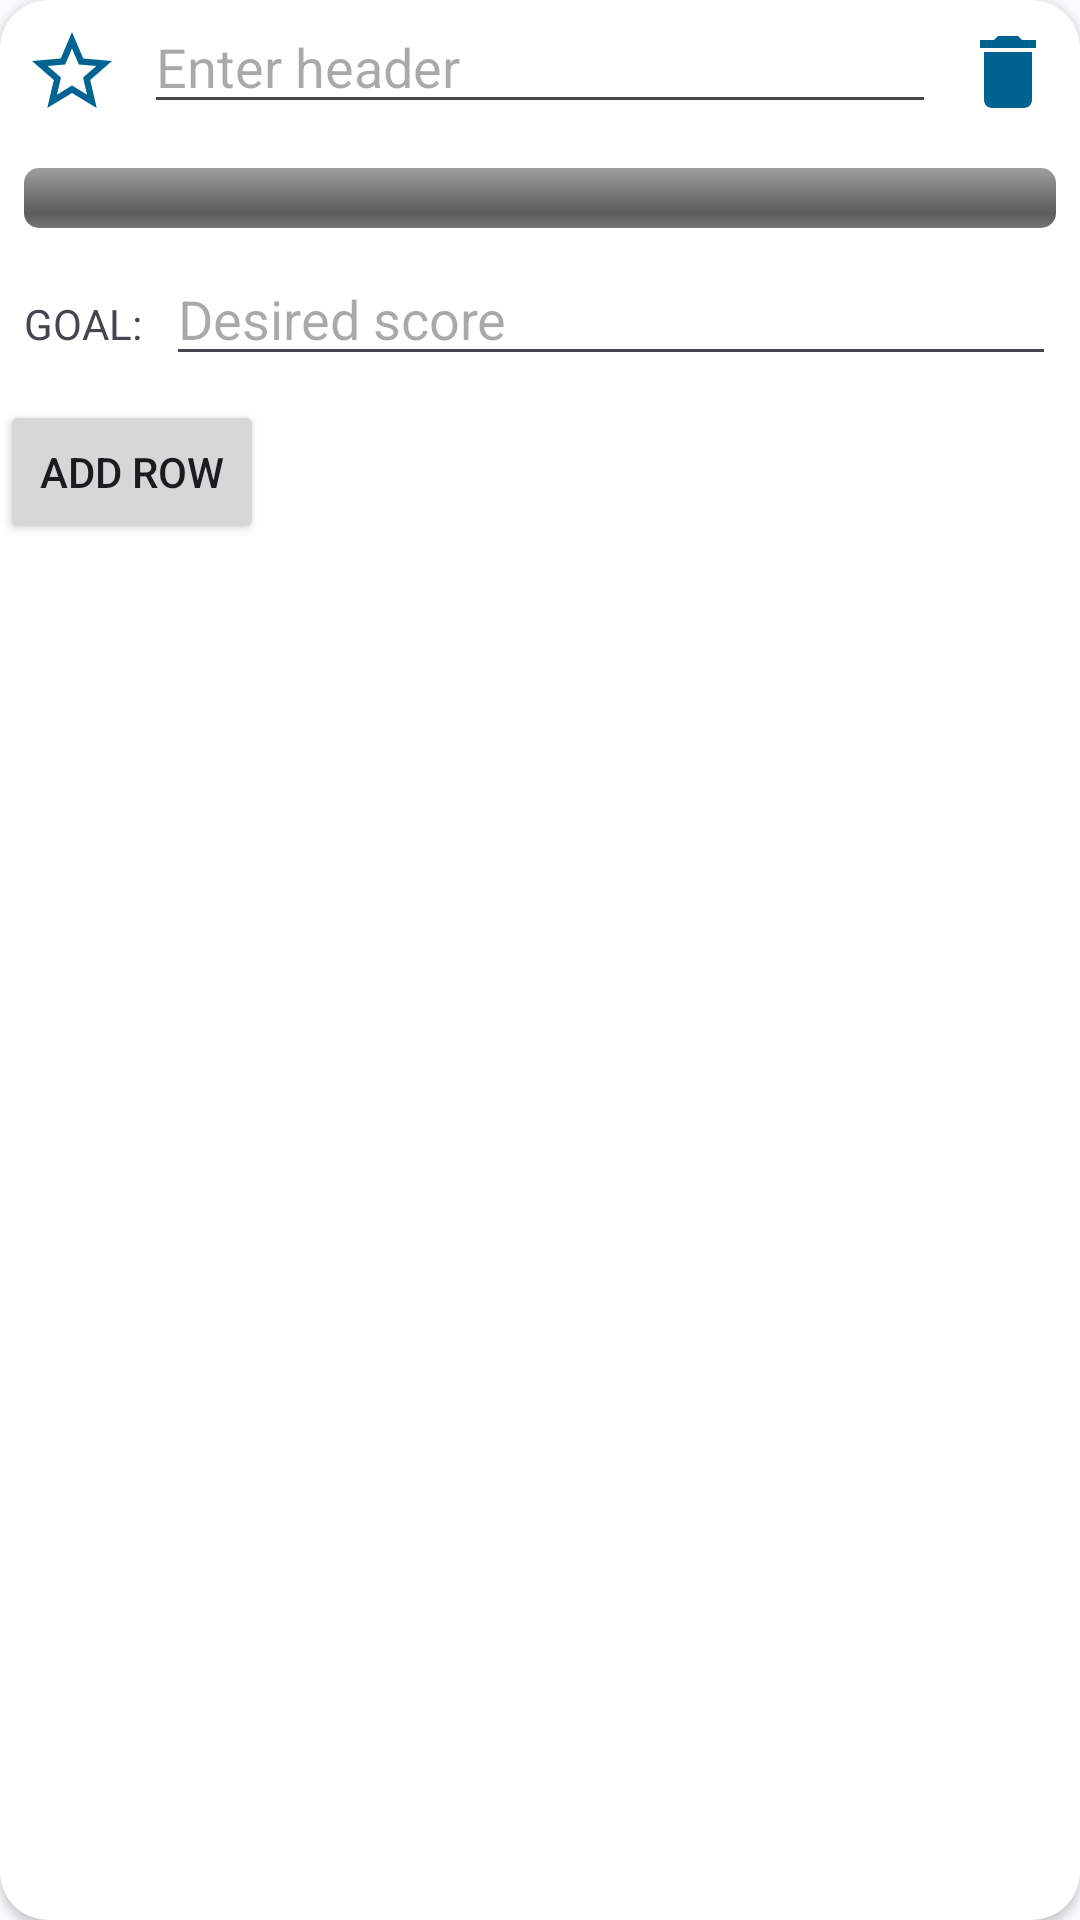

Named icons in this screenshot (1080w x 1920h) and their bounding boxes, {"left": x1, "top": y1, "right": x2, "bottom": y2}:
delete card: {"left": 980, "top": 8, "right": 1080, "bottom": 108}
star: {"left": 0, "top": 8, "right": 112, "bottom": 108}
